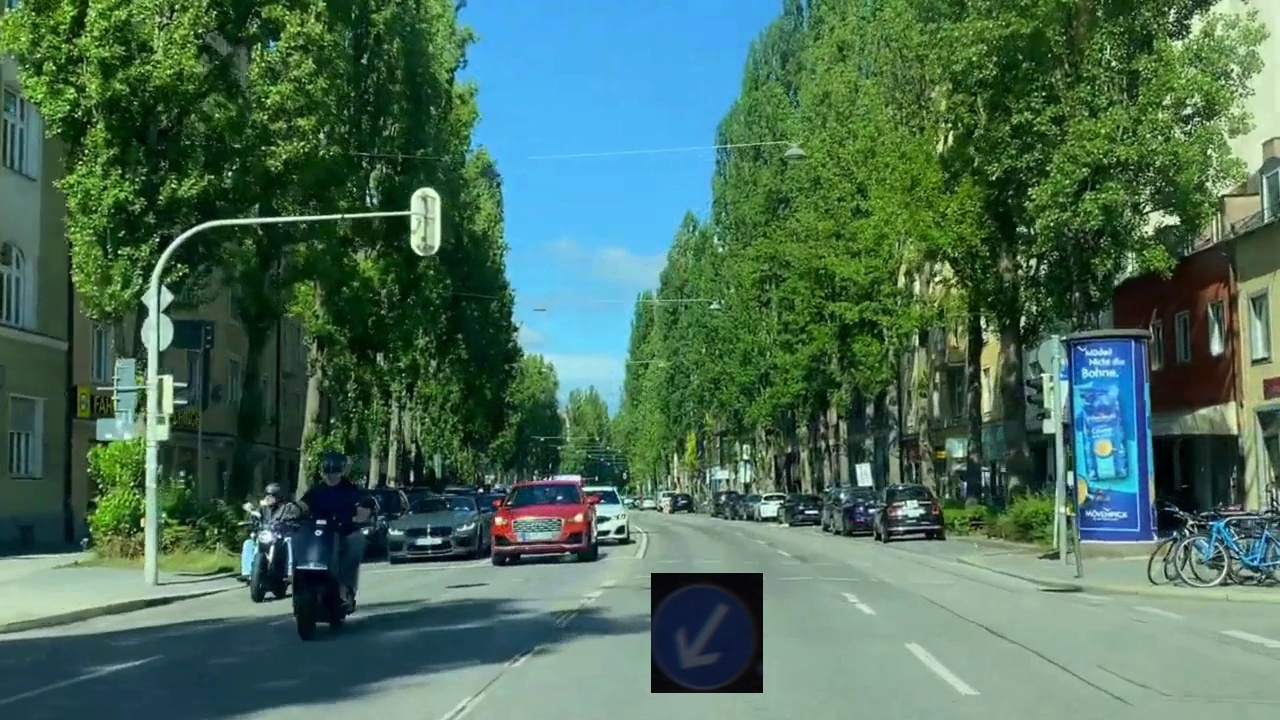Keep left: (651, 573, 763, 693)
